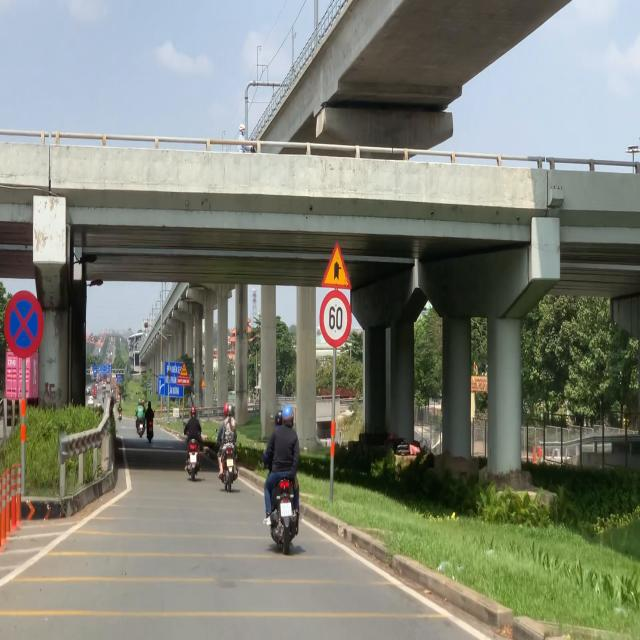Cam dung va do: (1, 288, 46, 363)
Giao voi duong khong uu tien: (318, 238, 350, 292)
Nguy hiem: (180, 363, 188, 376)
Toc do toi da: (318, 289, 354, 347)
